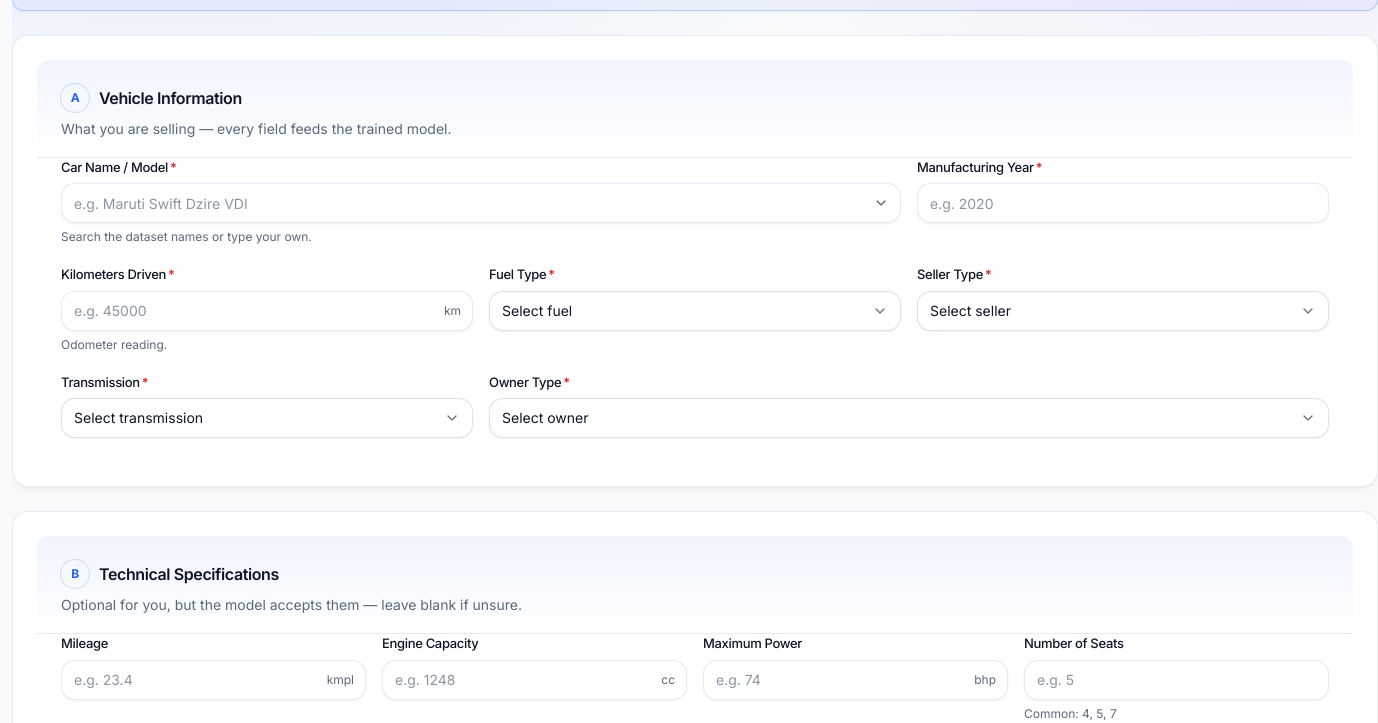
Test: form validation › flags an out-of-range year inline
Type "1500" into the number field labelled "Manufacturing Year*". click: (1123, 203)
box: [917,183,1329,223]
(page scrolled)
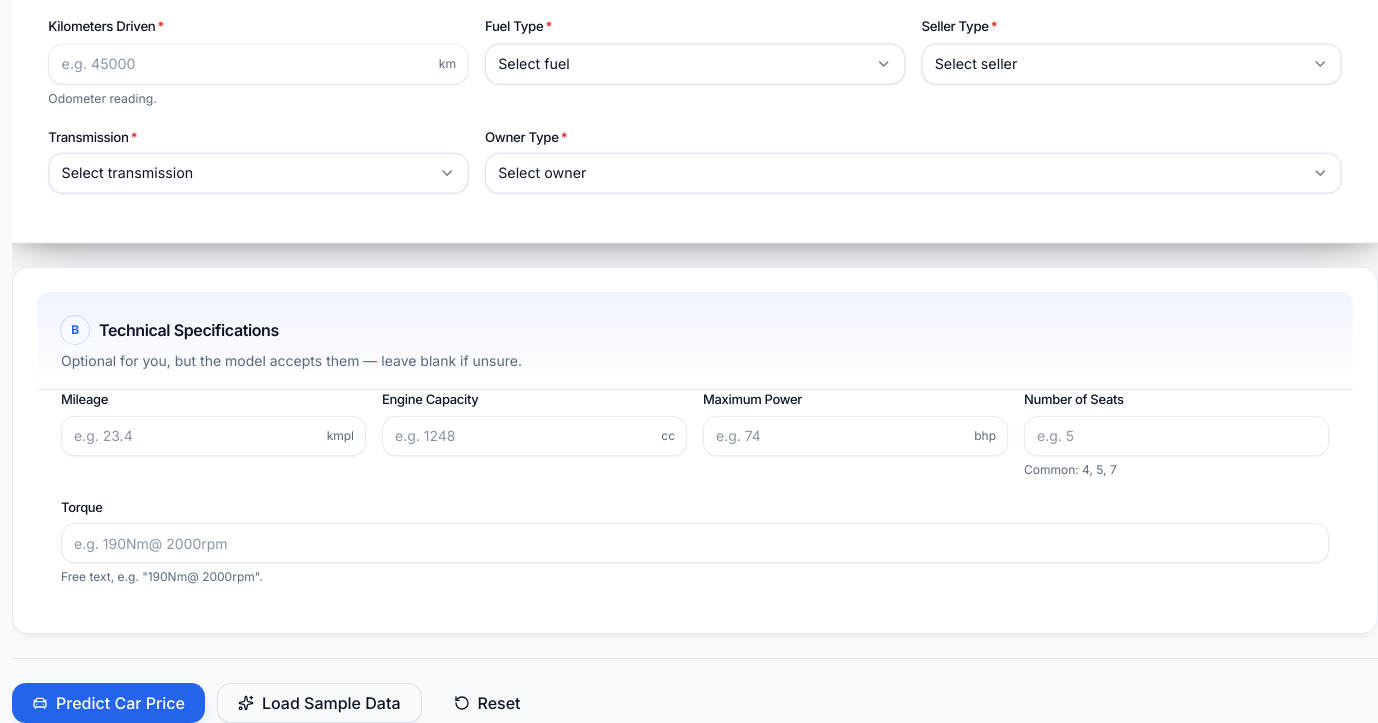
Click the button "Predict Car Price". click: (108, 703)
box: [12,683,205,722]
(page scrolled)
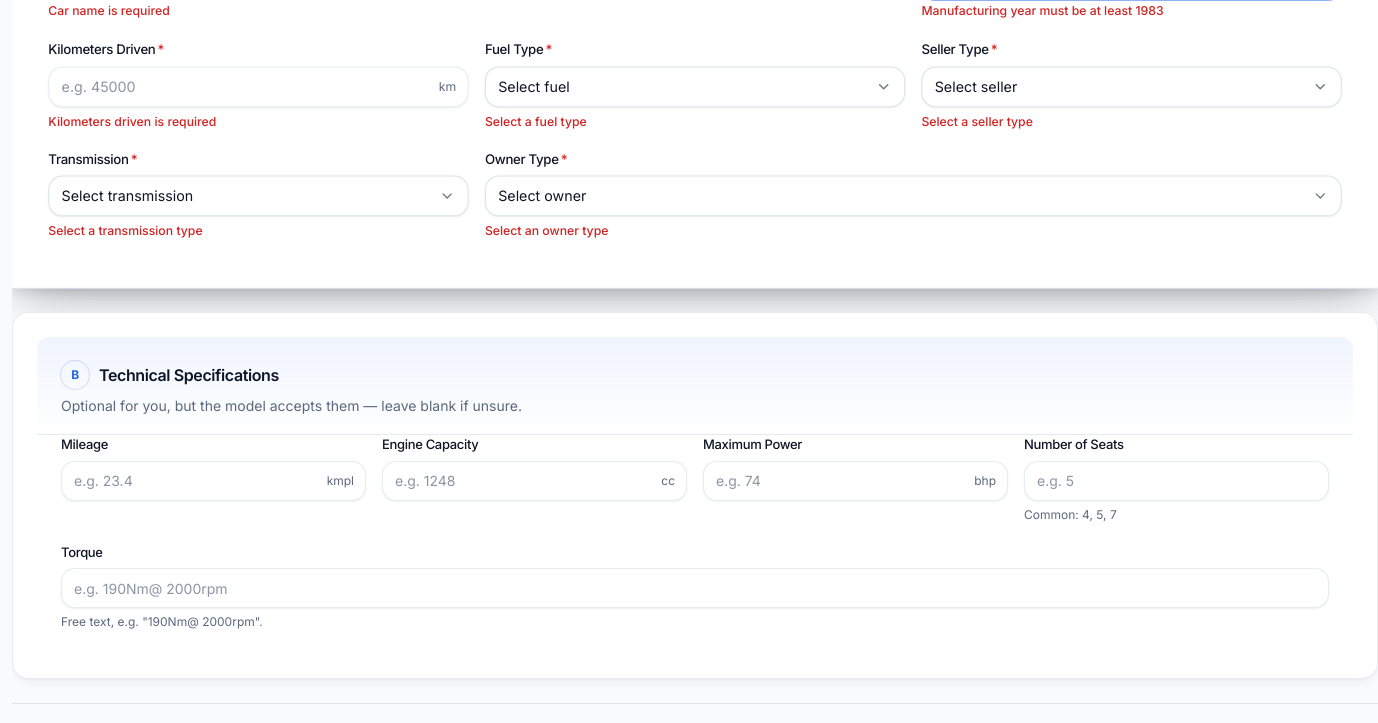
Now the text "Manufacturing year must be at least 1983" is shown, box [921,3,1164,19]
